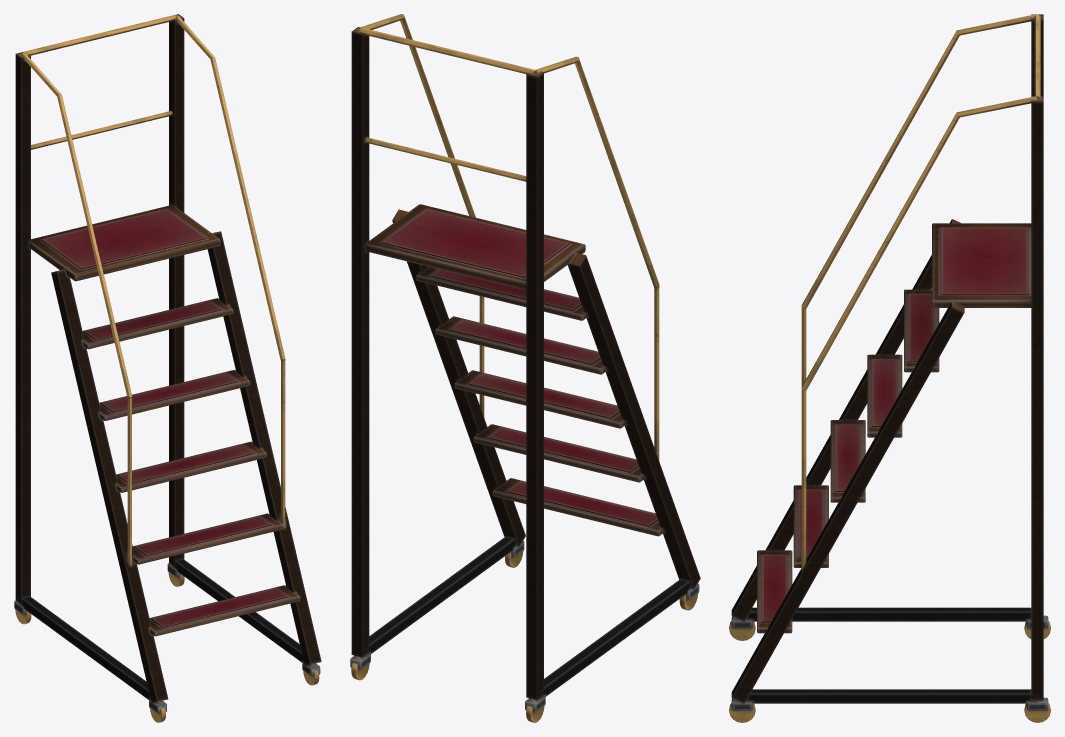
Rendered from RollingLadder.fbx.
3 renders of one model, left to right at view 1: azimuth 30°, elevation 25°; view 2: azimuth 150°, elevation 25°; view 3: azimuth 270°, elevation 25°, orthographic. The views are drawn at different scales.
Visible parts, largest first — view 1: RollingLadder; view 2: RollingLadder; view 3: RollingLadder.
Boxes of the visible parts, left/top/right/bottom form: RollingLadder: left=14, top=14, right=321, bottom=722; RollingLadder: left=350, top=14, right=700, bottom=722; RollingLadder: left=729, top=14, right=1050, bottom=722.
Bounding box in the file's own units: 236 × 783 × 365.
